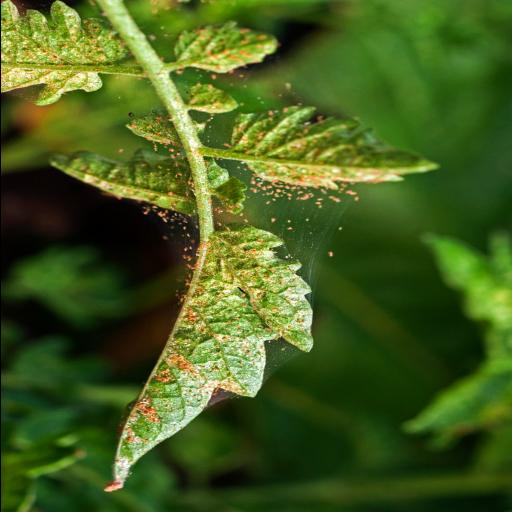disease_tomato: (104, 222, 320, 494), (228, 105, 442, 192), (0, 0, 122, 109), (173, 22, 281, 74)
